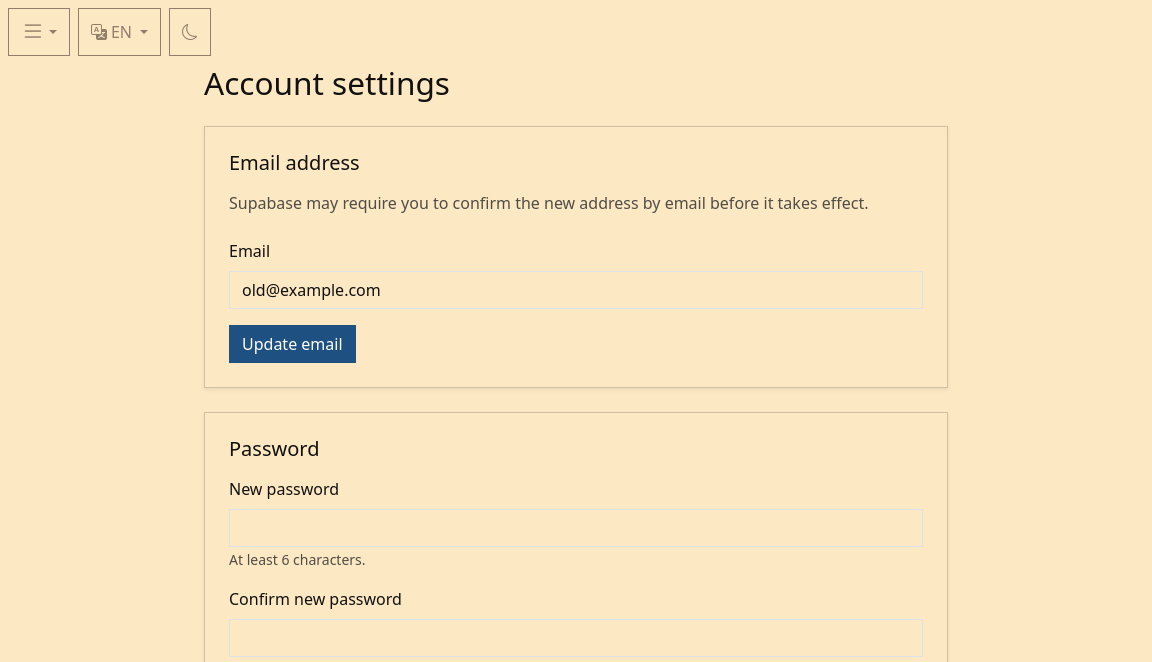
Test: Account › updates the account email and explains the confirmation step
Replace the text in the field labelled "Email" with "new@example.com" at (576, 290), box [229,271,923,309]
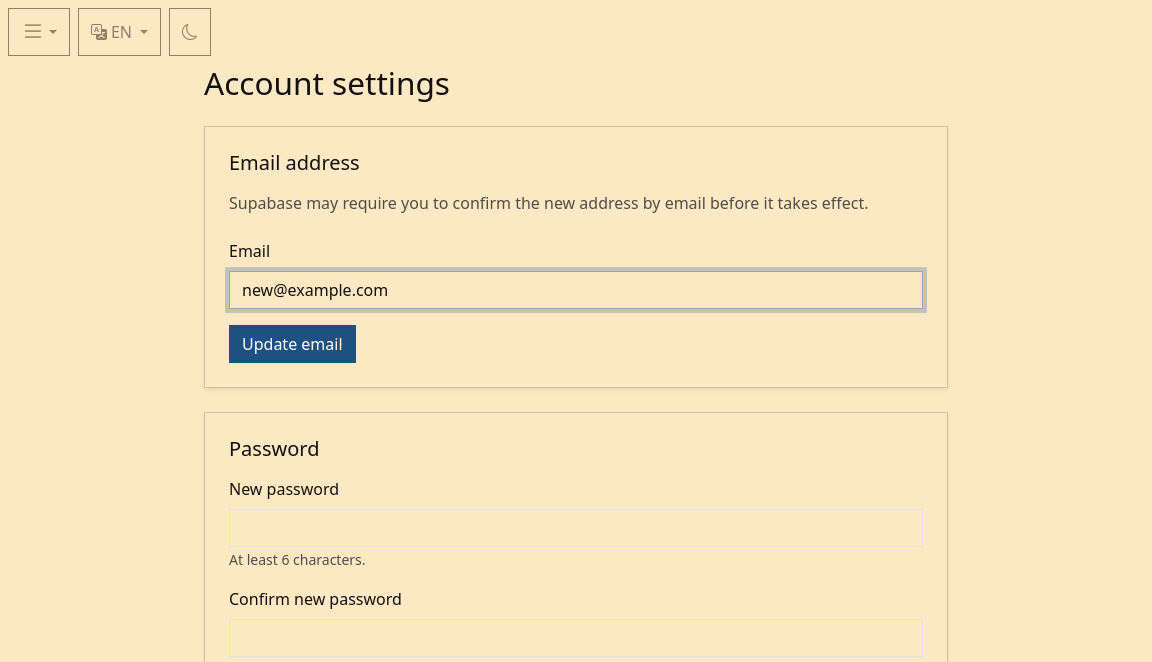
Click the button "Update email" at (292, 344), box [229,325,356,363]
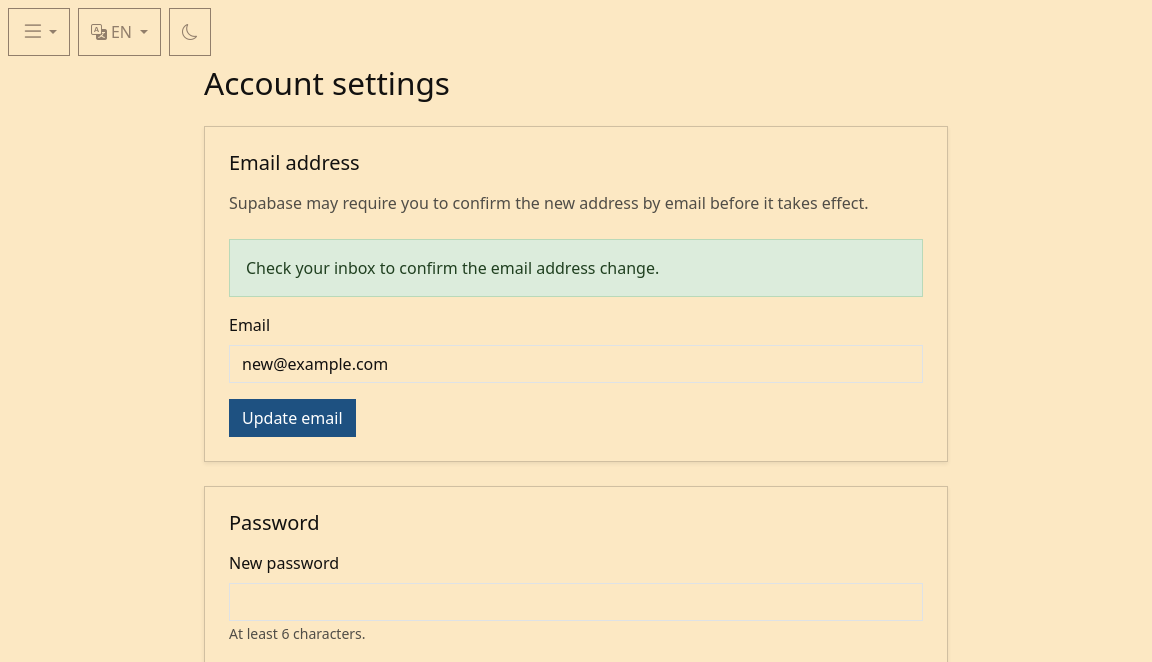
Check: the text "Check your inbox to confirm the email address change." is shown, box [229,239,923,297]
